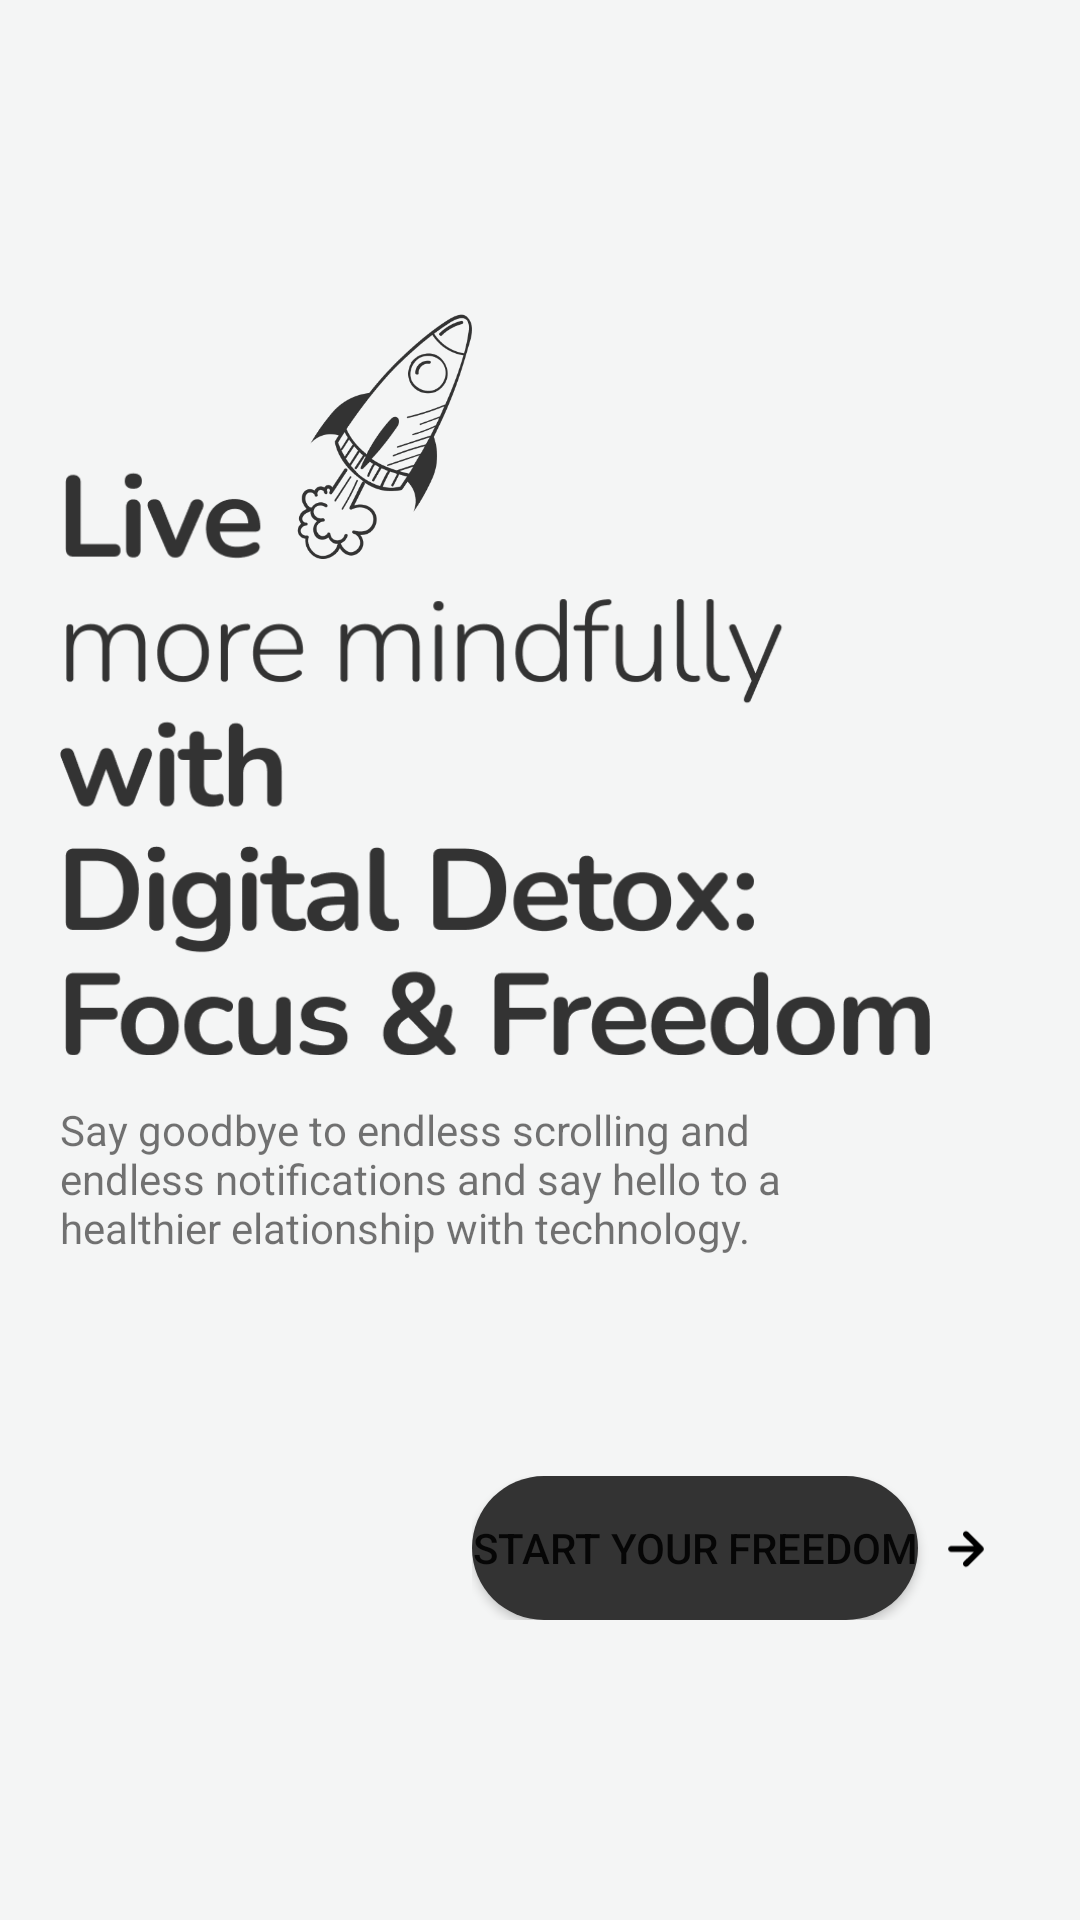

Icons on this 1080×1920 Android screen, each with its box as (x1=x1, y1=y1, x2=x2, y2=y2):
arrow right: (x1=948, y1=1530, x2=984, y2=1568)
